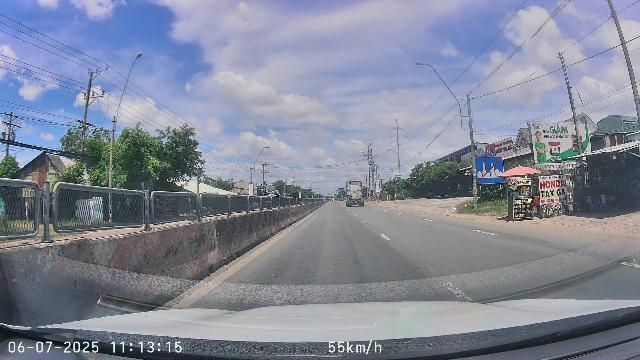421-ket-thuc-khu-dong-dan-cu: (476, 157, 504, 183)
